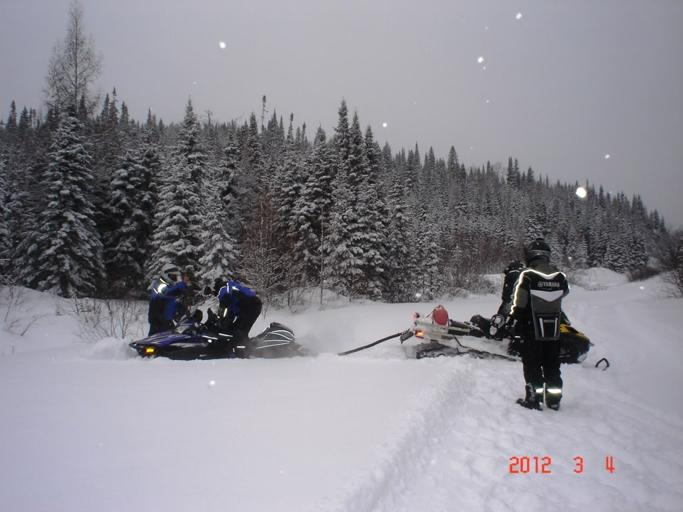non-vehicle: (399, 295, 611, 372), (127, 306, 306, 357)
